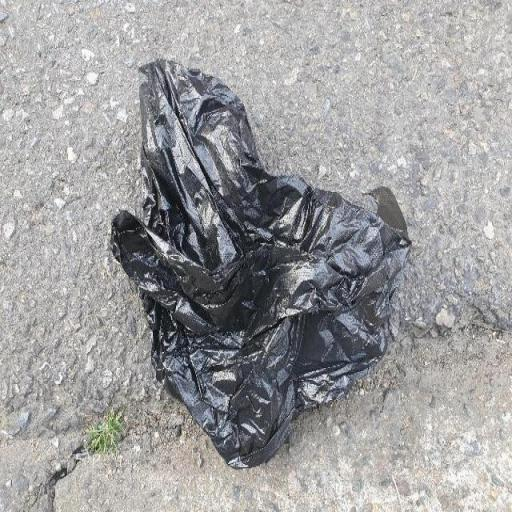plastic-bag: (112, 56, 414, 470)
